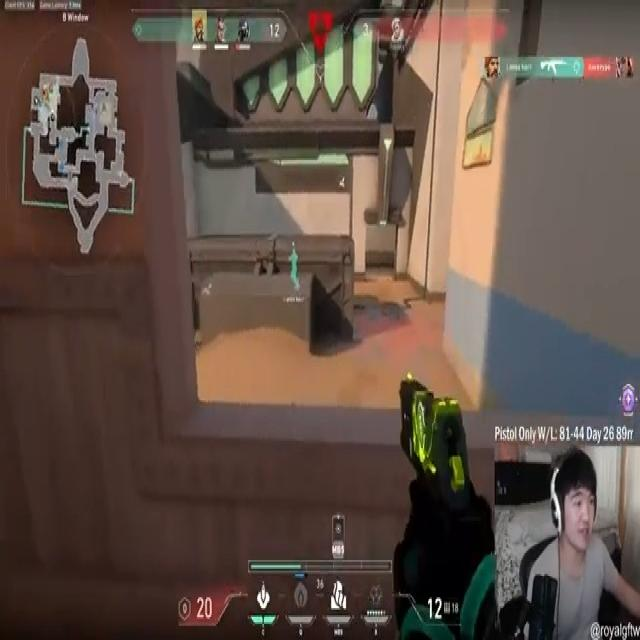ally behind wall: (287, 240, 301, 287)
